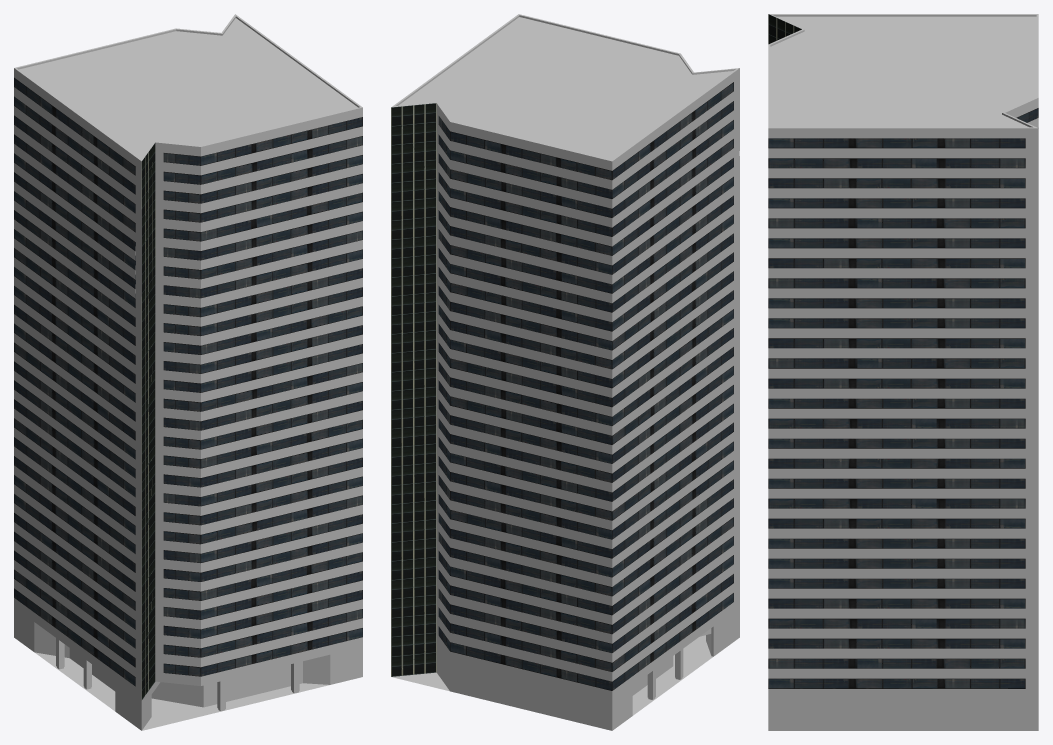
The picture shows the model from 3 angles, left to right: view 1: azimuth 30°, elevation 25°; view 2: azimuth 150°, elevation 25°; view 3: azimuth 270°, elevation 25°; orthographic projection. The views are drawn at different scales.
Parts seen in each view (by area): view 1: EC-001; view 2: EC-001; view 3: EC-001.
Part boxes in pixels (x1,y1,x2,y2): EC-001: (14, 14, 362, 730); EC-001: (391, 14, 739, 730); EC-001: (768, 14, 1038, 730).
Size of what is drawn, in the model's own units: 36 by 88.55 by 36.
